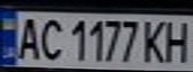1: (84, 17, 106, 62), (66, 16, 87, 61)
7: (121, 17, 142, 63), (103, 17, 124, 62)
A: (12, 14, 42, 61)
C: (36, 15, 66, 61)
H: (160, 17, 193, 64)
K: (139, 17, 172, 64)
